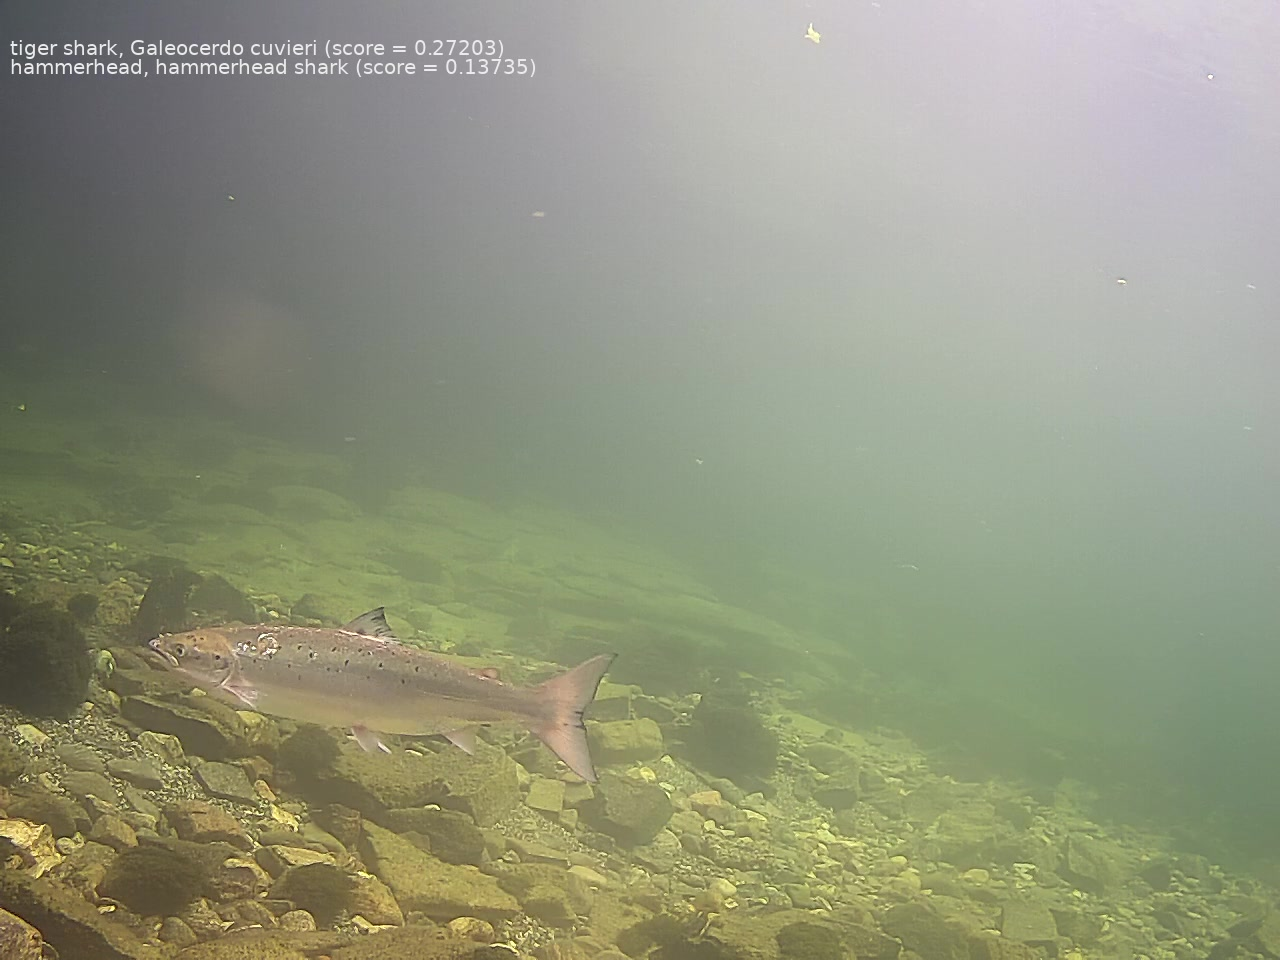salmon: (146, 605, 621, 785)
